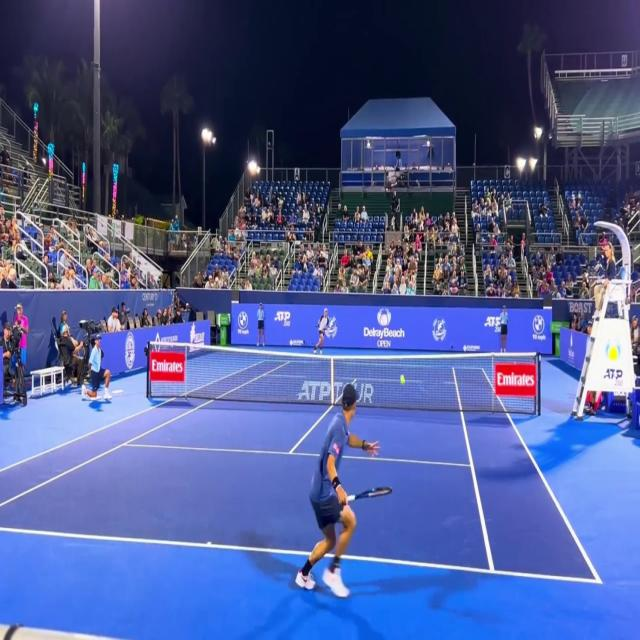tennisBall: (397, 368, 406, 391)
